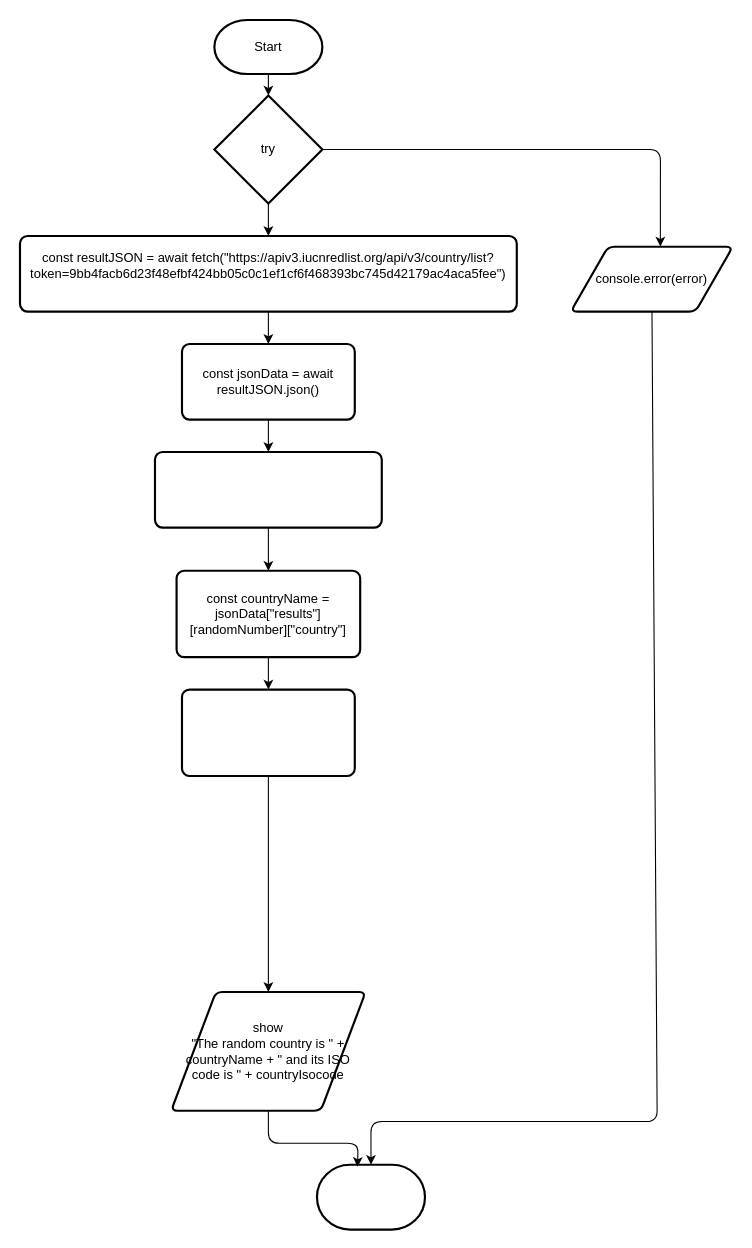
Image size: 752x1248. Some labels were removed from this diagram. The centre of each missing label's shape, as x and y in pixels:
const countryIsocode = jsonData["results"][randomNumber]["isocode"]: point (267, 732)
const randomNumber = Math.floor(Math.random() * 251) + 1: point (267, 489)
Stop: point (370, 1196)
